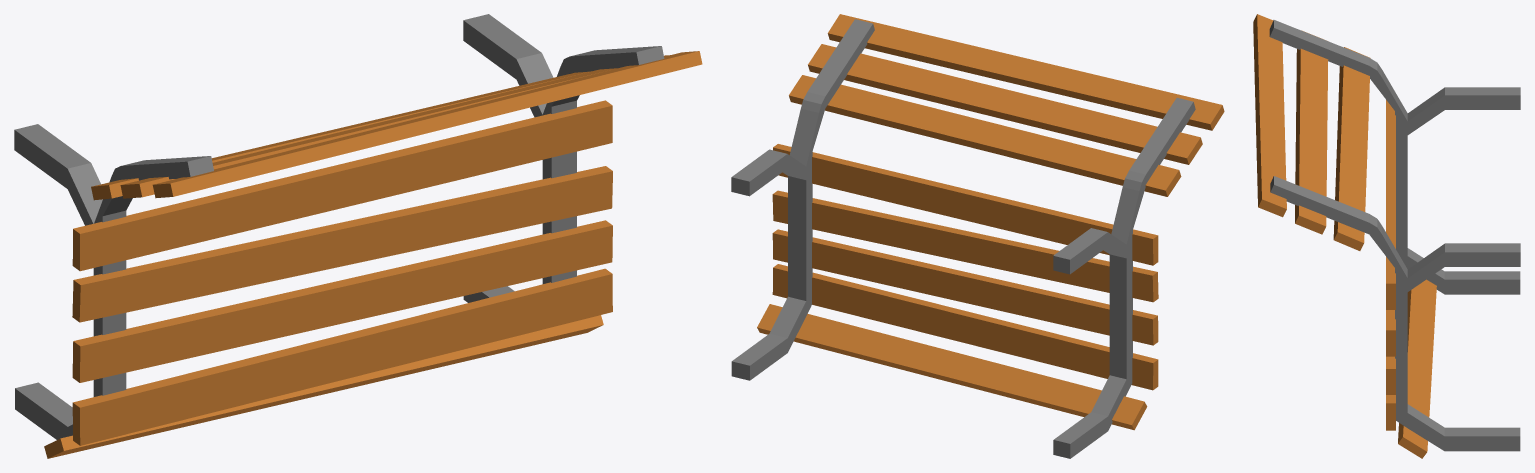
Rendered from bench.gltf.
3 renders of one model, left to right at view 1: azimuth 30°, elevation 25°; view 2: azimuth 150°, elevation 25°; view 3: azimuth 270°, elevation 25°, orthographic. The views are drawn at different scales.
Parts seen in each view (by area): view 1: Cube.006, Cube.004, Cube.003, Cube.005, Cube, Cube.011, Cube.001, Cube.007, Cube.010, Cube.009; view 2: Cube.001, Cube.006, Cube, Cube.005, Cube.007, Cube.010, Cube.009, Cube.003, Cube.011, Cube.004; view 3: Cube.001, Cube, Cube.011, Cube.010, Cube.009, Cube.007, Cube.004, Cube.003, Cube.005, Cube.006.
Part boxes in pixels (box(x1,y1,x2,y2)): Cube.006: box(72, 268, 612, 445); Cube.004: box(72, 100, 612, 271); Cube.003: box(72, 166, 612, 322); Cube.005: box(72, 220, 612, 382); Cube: box(14, 124, 213, 439); Cube.011: box(152, 51, 702, 198); Cube.001: box(463, 14, 664, 302); Cube.007: box(44, 315, 603, 458); Cube.010: box(120, 55, 670, 198); Cube.009: box(91, 71, 589, 200); Cube.001: box(731, 19, 874, 380); Cube.006: box(772, 264, 1158, 390); Cube: box(1053, 97, 1195, 458); Cube.005: box(772, 229, 1158, 345); Cube.007: box(757, 304, 1147, 430); Cube.010: box(808, 44, 1202, 164); Cube.009: box(789, 75, 1181, 196); Cube.003: box(772, 190, 1158, 302); Cube.011: box(827, 14, 1224, 130); Cube.004: box(773, 144, 1158, 265); Cube.001: box(1270, 176, 1520, 451); Cube: box(1269, 20, 1520, 294); Cube.011: box(1253, 14, 1286, 217); Cube.010: box(1295, 30, 1328, 234); Cube.009: box(1333, 47, 1370, 250); Cube.007: box(1398, 279, 1436, 458); Cube.004: box(1386, 100, 1395, 309); Cube.003: box(1386, 310, 1395, 356); Cube.005: box(1386, 356, 1395, 394); Cube.006: box(1386, 395, 1395, 430).
Size of the model in its own units: 3.5 by 2.34 by 2.13.
